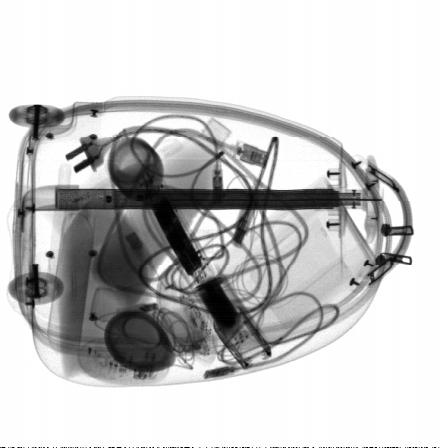Baton: (133, 174, 272, 370)
